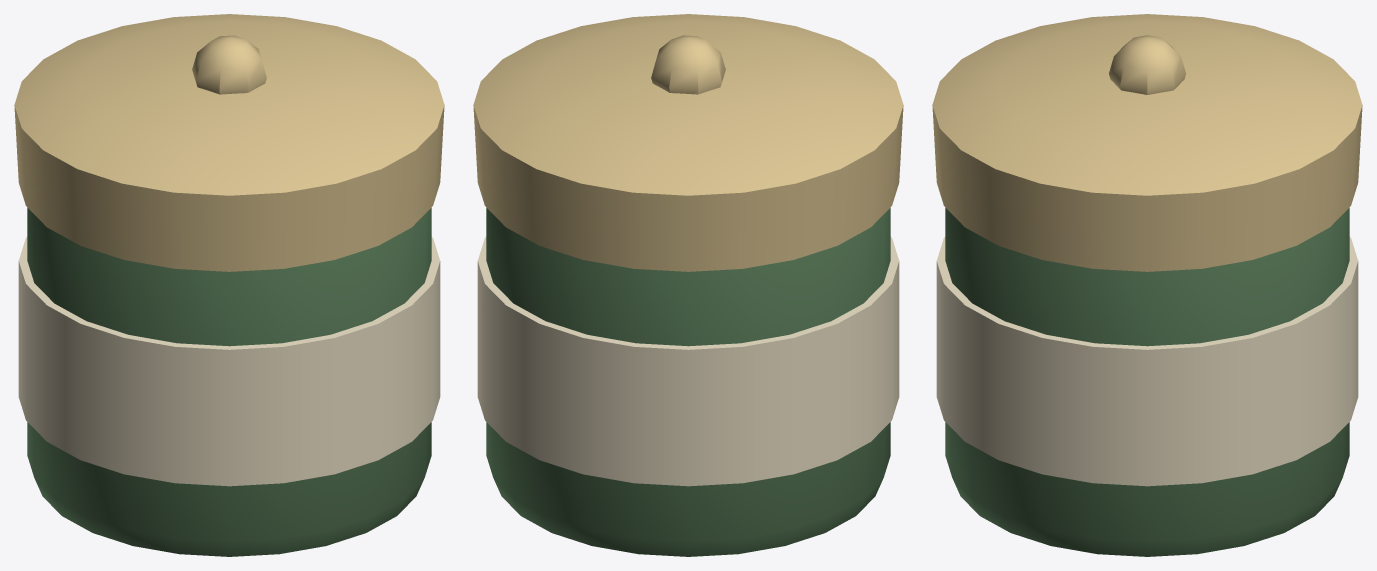
Rendered from scholars_tea.glb.
The picture shows the model from 3 angles, left to right: view 1: azimuth 30°, elevation 25°; view 2: azimuth 150°, elevation 25°; view 3: azimuth 270°, elevation 25°; orthographic projection.
Visible parts, largest first — view 1: scholars_tea; view 2: scholars_tea; view 3: scholars_tea.
Part boxes in pixels (x1=…): scholars_tea: x1=14, y1=14, x2=444, y2=556; scholars_tea: x1=473, y1=14, x2=903, y2=556; scholars_tea: x1=932, y1=14, x2=1362, y2=556.
Size of the model in its own units: 0.1 by 0.112 by 0.1.
